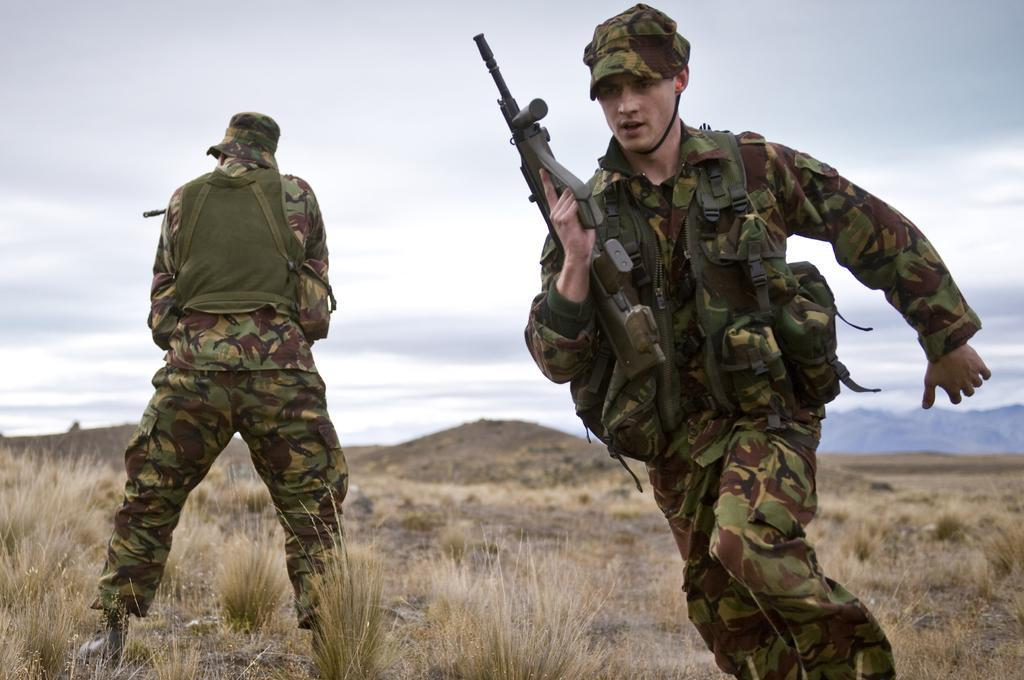gun: (469, 35, 664, 381)
